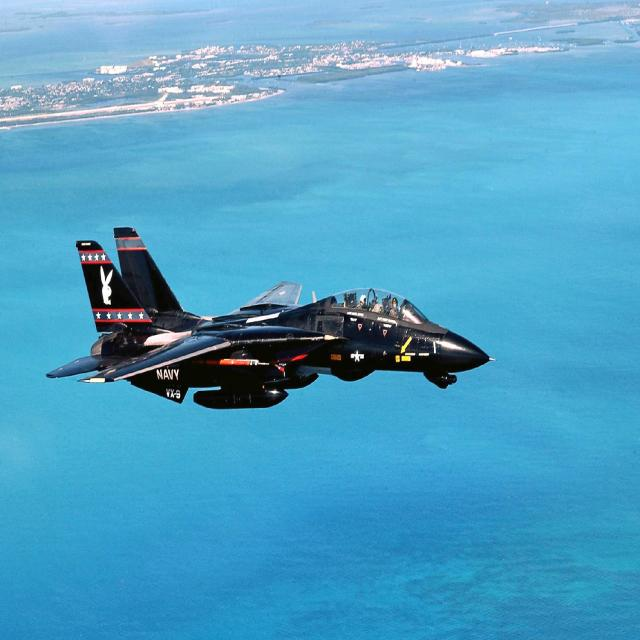MIL_Plane: (45, 227, 497, 410)
